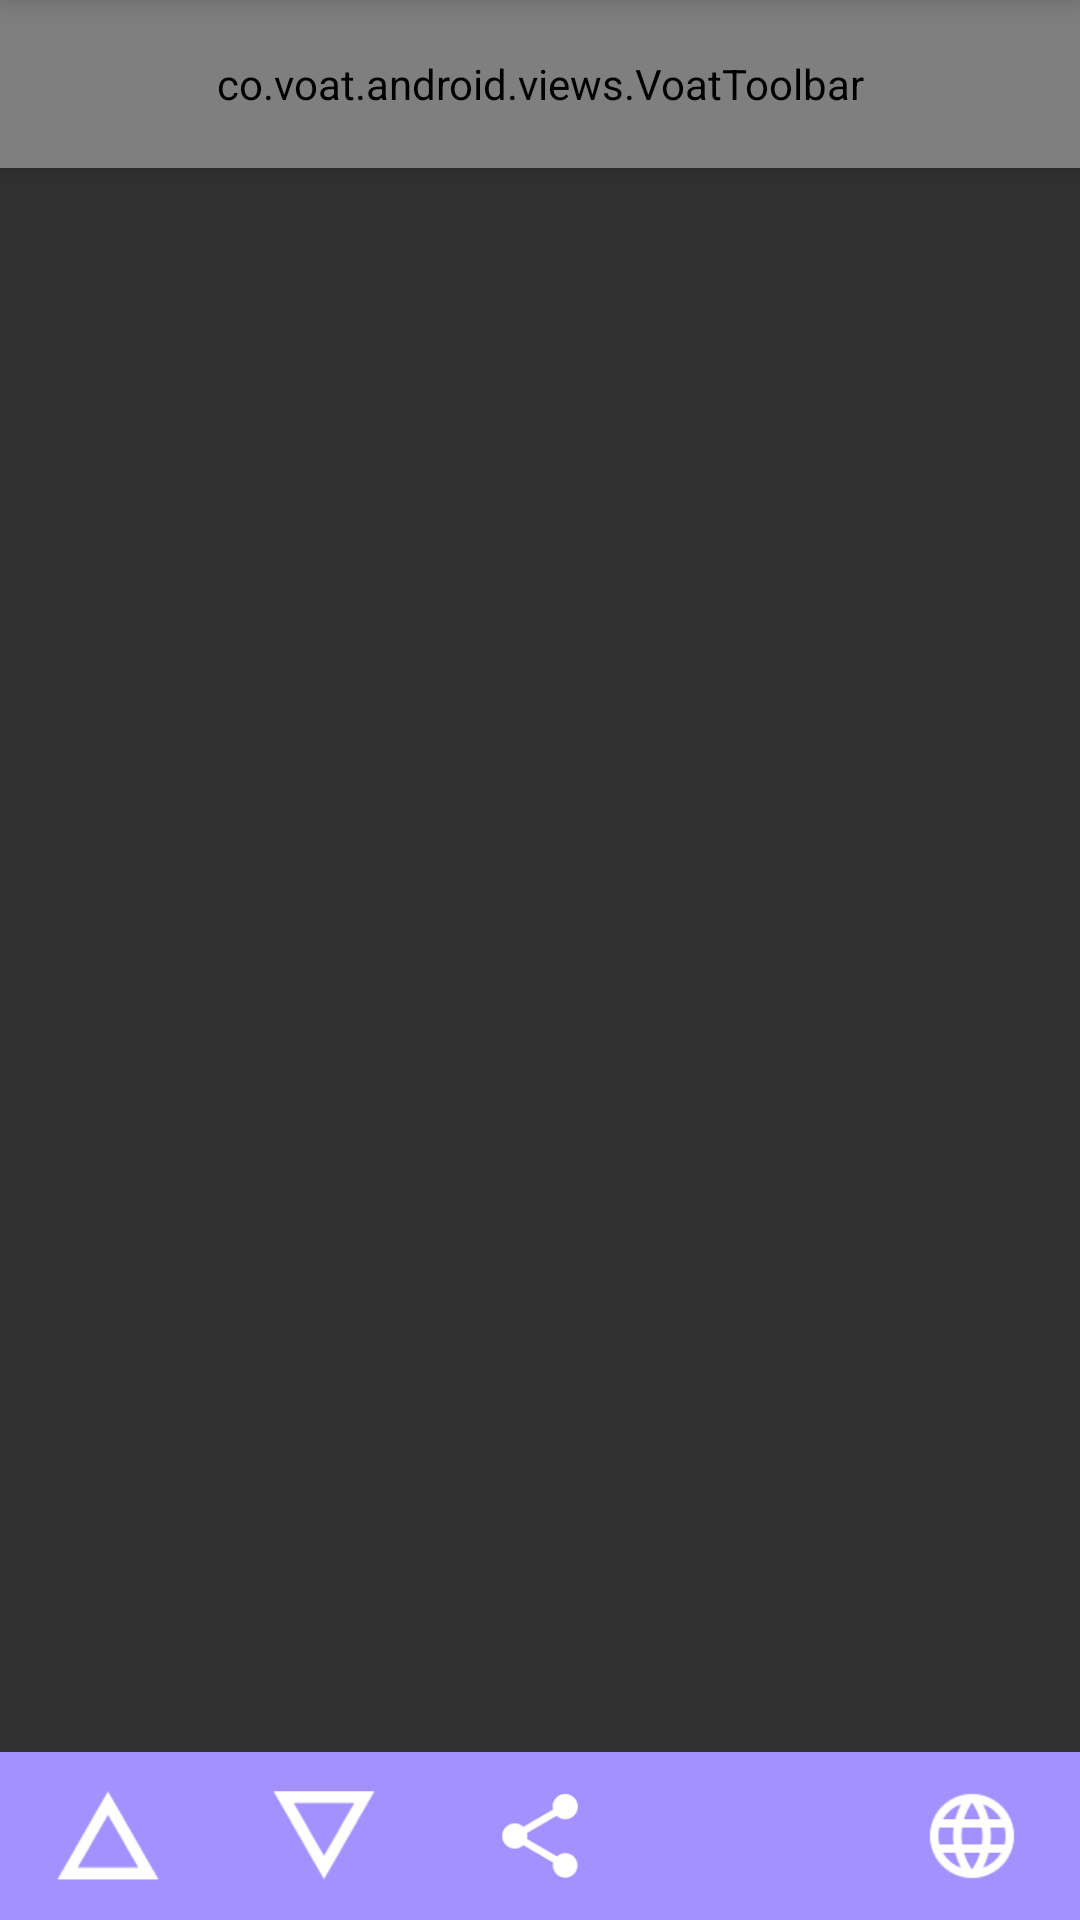

Icon click points for this 1080px x 1920px phone screenshot, format (x,y):
browser: (972,1836)
downvote: (324,1835)
share: (540,1836)
upvote: (108,1836)
